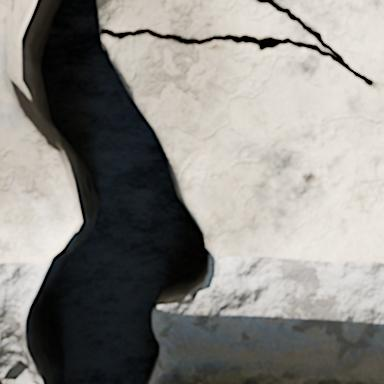broken_brick: (103, 0, 383, 262), (0, 76, 77, 264), (0, 0, 8, 48)
crack: (0, 0, 381, 383)
